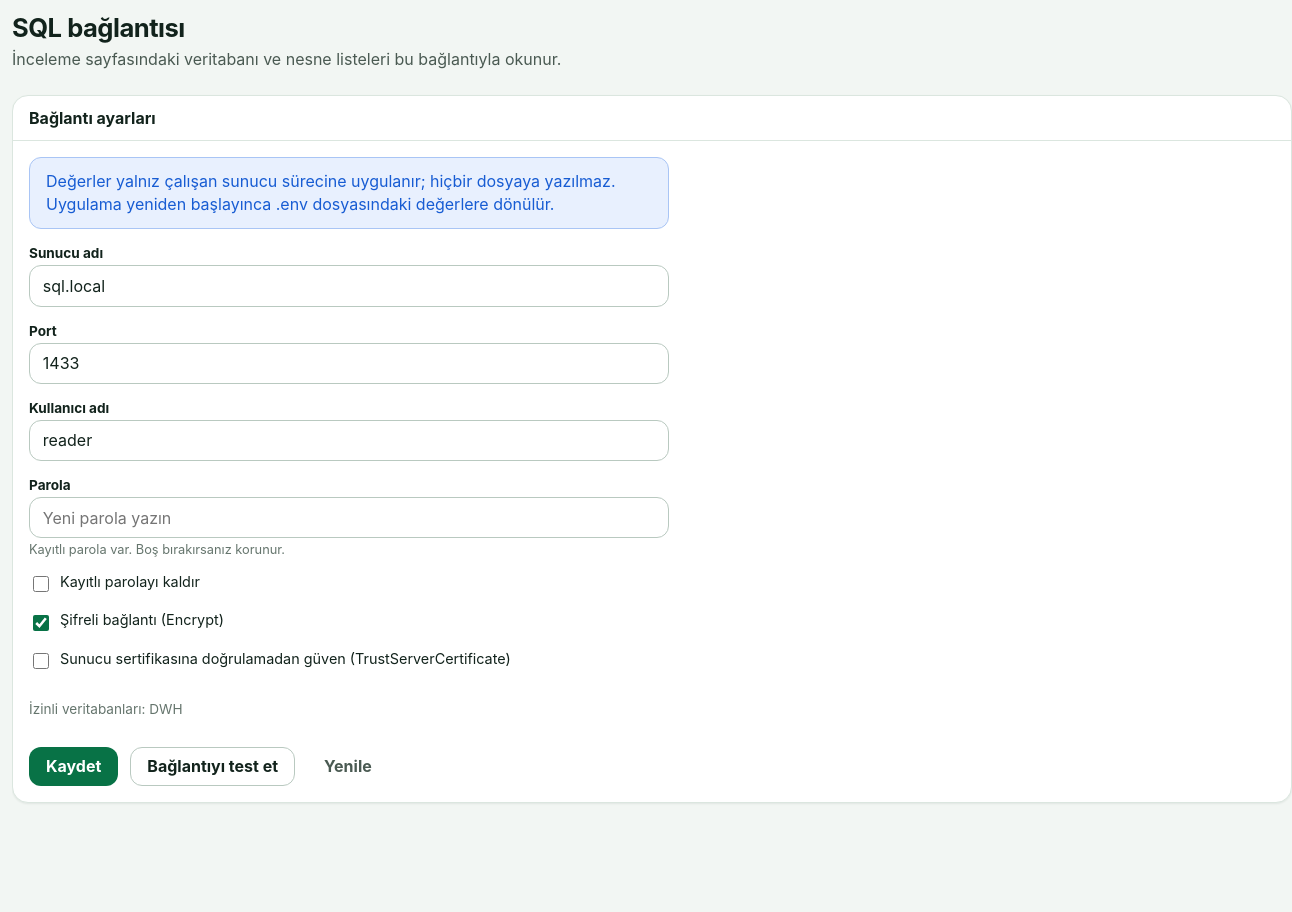
Test case: SQL connection page › keeps the stored password unless a new one is typed or removal is chosen
Click the checkbox labelled "Kayıtlı parolayı kaldır": {"x": 41, "y": 584} [33,576,49,592]
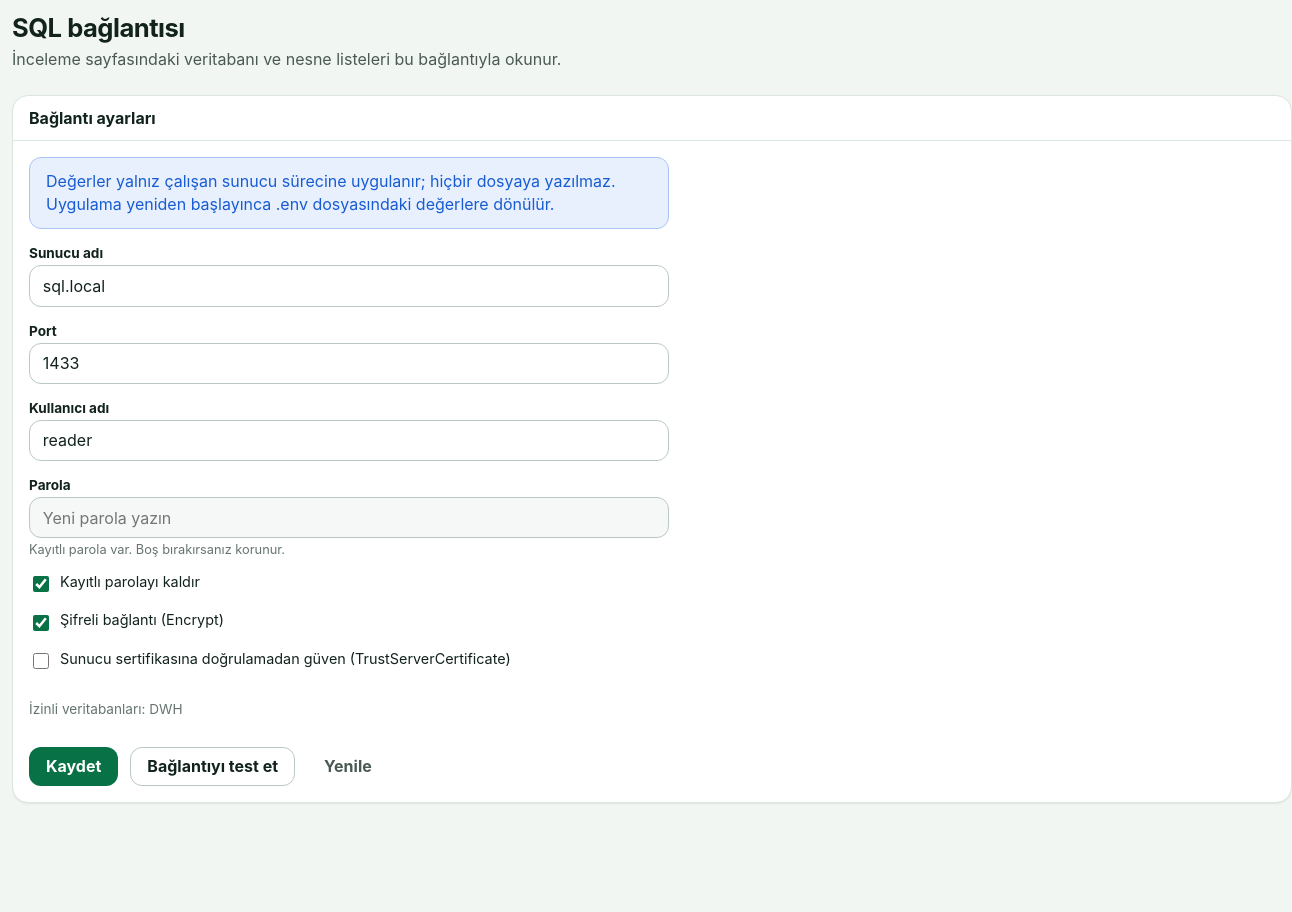
Click the button "Kaydet": {"x": 74, "y": 766} [29,747,118,786]
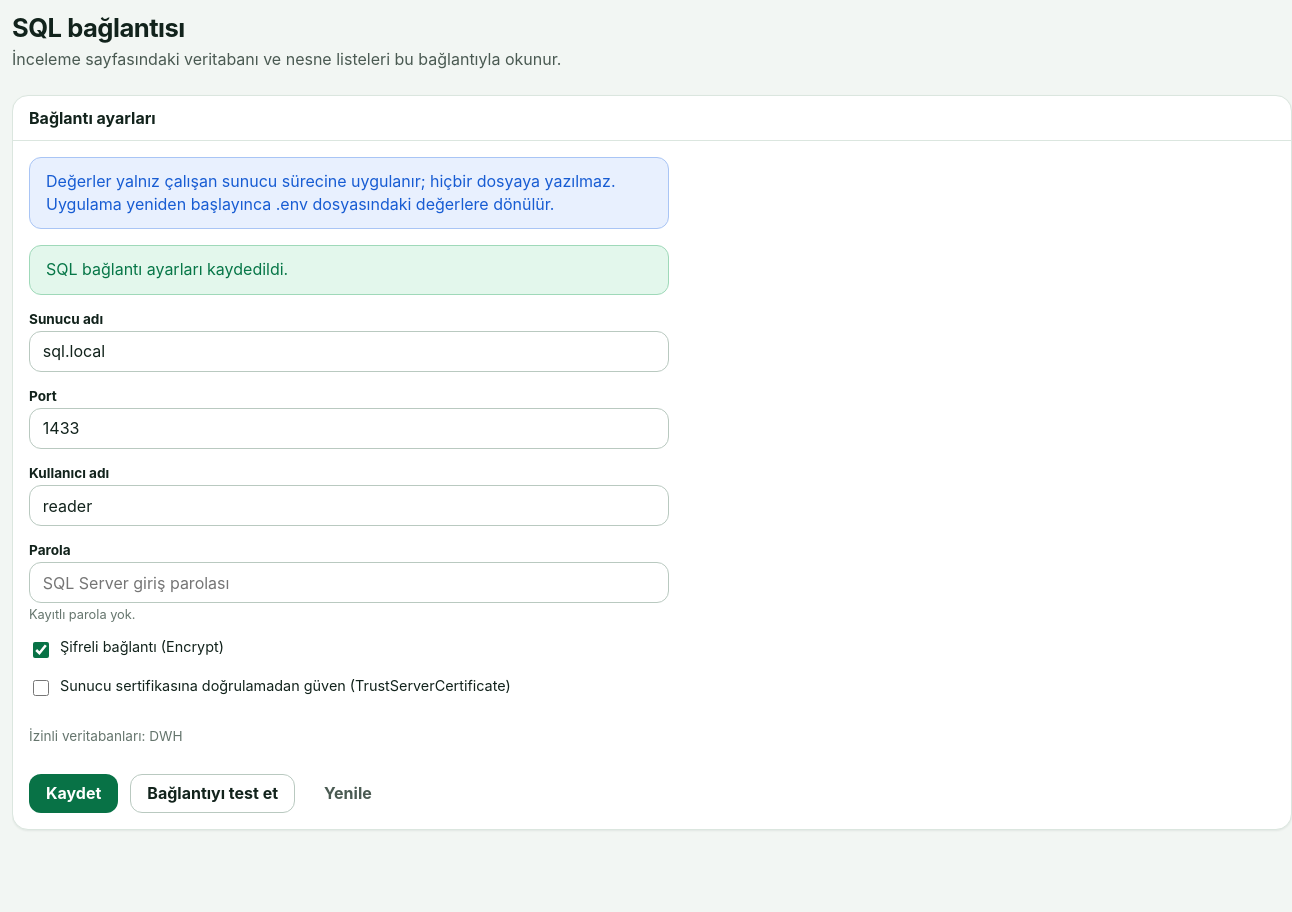
Now the text "SQL bağlantı ayarları kaydedildi." is shown, box [29,245,669,295]
Now the text "Kayıtlı parola yok." is shown, box [29,607,136,622]
